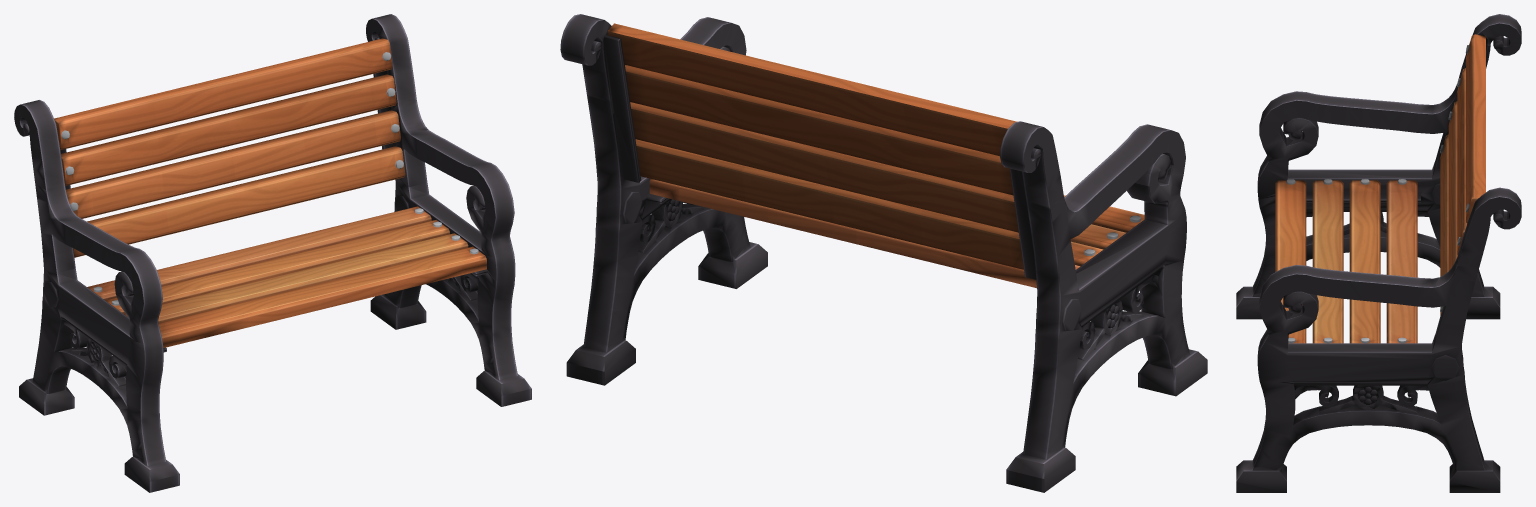
The model's file is houdini_park_bench_masks.glb.
3 renders of one model, left to right at view 1: azimuth 30°, elevation 25°; view 2: azimuth 150°, elevation 25°; view 3: azimuth 270°, elevation 25°, orthographic. The views are drawn at different scales.
Parts seen in each view (by area): view 1: LOD0; view 2: LOD0; view 3: LOD0.
Boxes of the visible parts, x1,y1,x2,y2 form: LOD0: [14, 14, 531, 492]; LOD0: [560, 14, 1207, 492]; LOD0: [1236, 14, 1521, 492].
Size of what is drawn, in the model's own units: 1.44 by 1.05 by 0.9235.
Materials: 3 (3 with a texture image).
